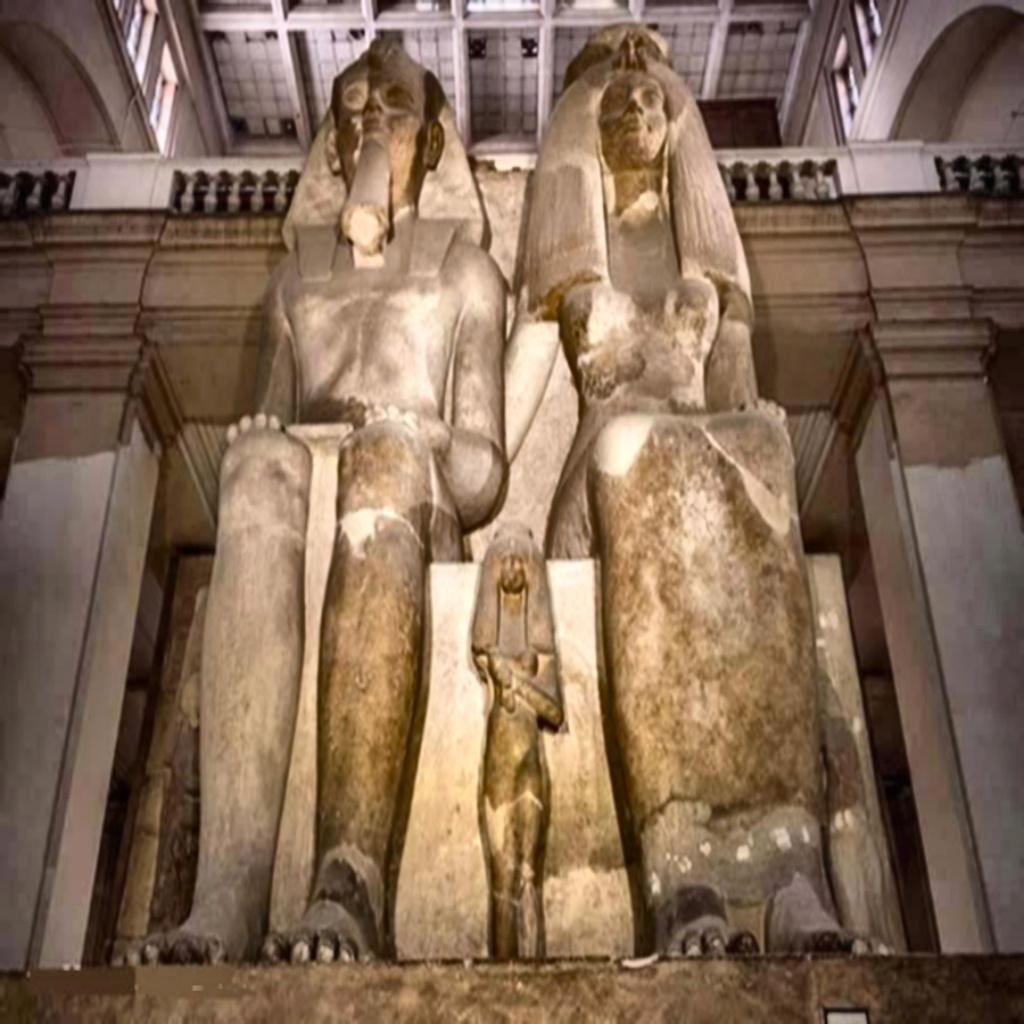Amenhotep III and Tiye: (138, 35, 856, 969)
